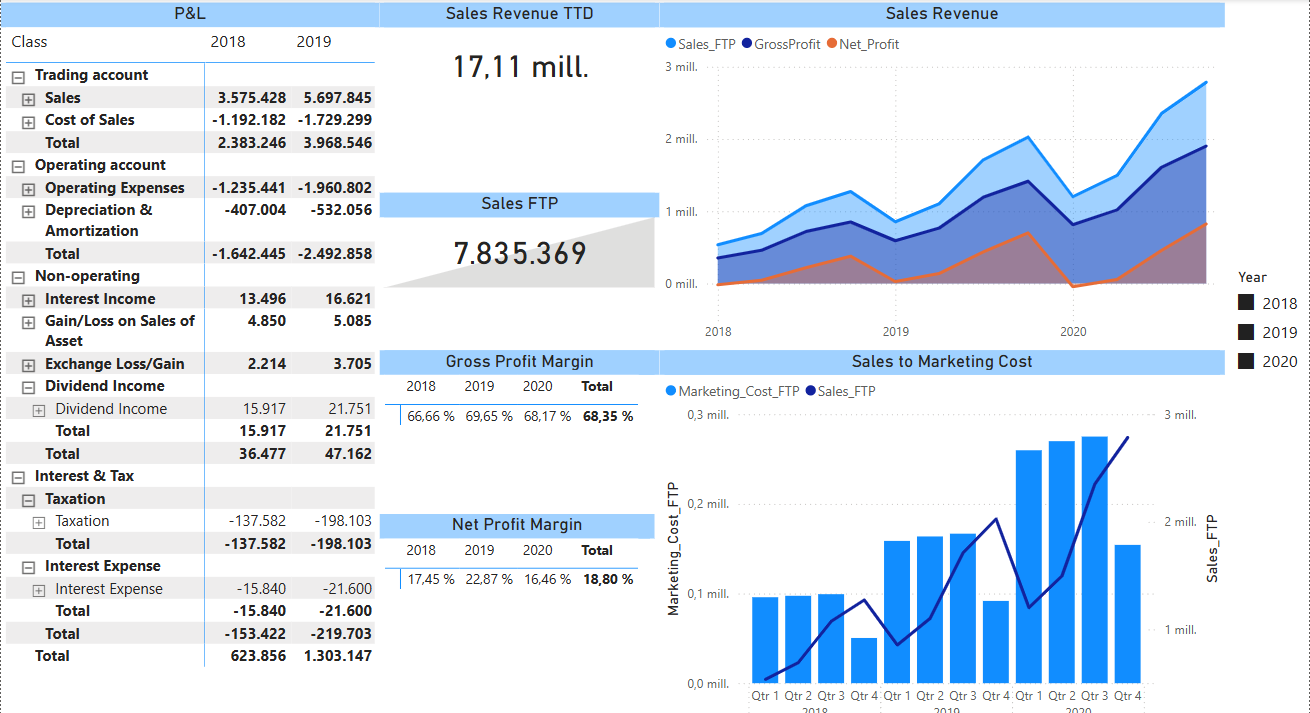

Layout of this report page (visuals, bound fields, positions):
{"tool":"powerbi","page":{"name":"P&L V2","canvas":[1280,720],"ordinal":2},"visuals":[{"type":"pivotTable","title":"Sales Revenue","fields":{"Columns":["tbl_Calendar.Year","tbl_Calendar.Quarter","tbl_Calendar.Month"],"Rows":["tbl_COA.Class","tbl_COA.SubClass","tbl_COA.SubClass2","tbl_COA.Account"],"Values":["Fact_tbl_GL_.Total_FTP"]},"box":[0,3.7,370.5,712.9],"z":0},{"type":"card","title":"Sales Revenue TTD","fields":{"Values":["Fact_tbl_GL_.Total_FTP"]},"box":[370.5,3.7,273.9,100.3],"z":6000},{"type":"kpi","title":"Sales FTP","fields":{"TrendLine":["tbl_Calendar.Date.Variación.Jerarquía de fechas.Año"],"Indicator":["Fact_tbl_GL_.Total_FTP"]},"box":[370.5,189.5,273.9,97.8],"z":7000},{"type":"slicer","fields":{"Values":["tbl_Calendar.Year"]},"box":[1197.5,257.5,82.5,171.2],"z":8000},{"type":"areaChart","title":"Sales Revenue","fields":{"Category":["tbl_Calendar.Date.Variación.Jerarquía de fechas.Año","tbl_Calendar.Date.Variación.Jerarquía de fechas.Trimestre","tbl_Calendar.Date.Variación.Jerarquía de fechas.Mes","tbl_Calendar.Date.Variación.Jerarquía de fechas.Día"],"Y":["Fact_tbl_GL_.Sales_FTP","Fact_tbl_GL_.GrossProfit","Fact_tbl_GL_.Net_Profit"]},"box":[644.4,3.7,552.7,339.9],"z":9000},{"type":"lineStackedColumnComboChart","title":"Sales to Marketing Cost","fields":{"Category":["tbl_Calendar.Date.Variación.Jerarquía de fechas.Año","tbl_Calendar.Date.Variación.Jerarquía de fechas.Trimestre","tbl_Calendar.Date.Variación.Jerarquía de fechas.Mes","tbl_Calendar.Date.Variación.Jerarquía de fechas.Día"],"Y":["Fact_tbl_GL_.Marketing_Cost_FTP"],"Y2":["Fact_tbl_GL_.Sales_FTP"]},"box":[644.4,343.6,552.7,376.6],"z":10000},{"type":"pivotTable","title":"Gross Profit Margin","fields":{"Columns":["tbl_Calendar.Year"],"Values":["Fact_tbl_GL_.GrossProfit_Margin"]},"box":[370.5,343.6,273.9,85.6],"z":11000},{"type":"pivotTable","title":"Net Profit Margin","fields":{"Columns":["tbl_Calendar.Year"],"Values":["Fact_tbl_GL_.NetProfit_Margin"]},"box":[370.5,503.8,269,86.8],"z":12000}]}

Visuals, with their boxes on the page's 1280x720 design canvas (x1, y1, x2, y2). These are canvas units, not pixel positions in the 1310x713 screenshot, which may show the page scaled, cropped or inside an application window:
"Sales Revenue" pivotTable: locate(0, 4, 370, 717)
"Sales Revenue TTD" card: locate(370, 4, 644, 104)
"Sales FTP" kpi: locate(370, 190, 644, 287)
slicer - tbl_Calendar.Year: locate(1198, 258, 1280, 429)
"Sales Revenue" areaChart: locate(644, 4, 1197, 344)
"Sales to Marketing Cost" lineStackedColumnComboChart: locate(644, 344, 1197, 720)
"Gross Profit Margin" pivotTable: locate(370, 344, 644, 429)
"Net Profit Margin" pivotTable: locate(370, 504, 640, 591)
